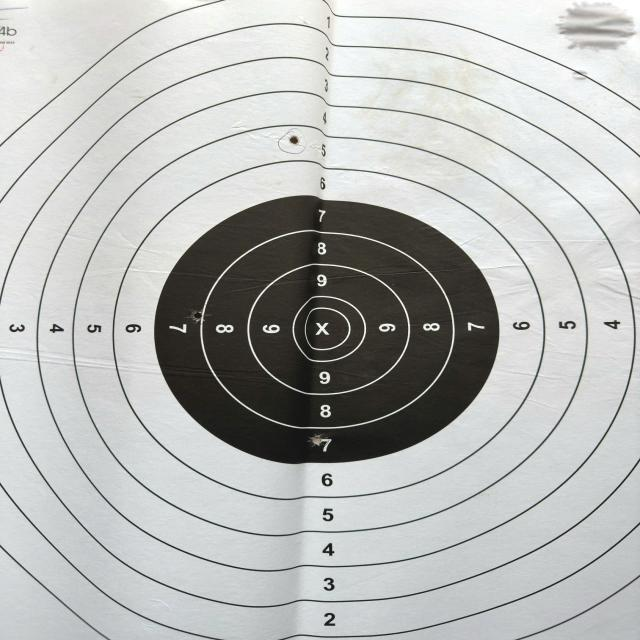bullet: (308, 436, 324, 448), (288, 136, 300, 144), (193, 312, 200, 320)
